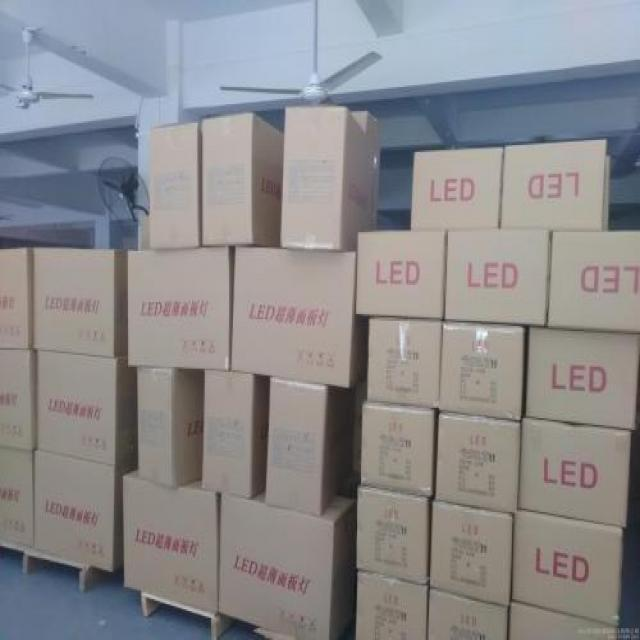box: (215, 482, 358, 640), (228, 236, 364, 388), (510, 501, 638, 627), (124, 459, 220, 621), (515, 408, 640, 528), (124, 238, 236, 368), (282, 99, 370, 253), (523, 315, 640, 425), (32, 441, 128, 575), (35, 344, 137, 469), (443, 214, 554, 328), (199, 105, 285, 245), (31, 243, 129, 356), (434, 306, 530, 421), (267, 370, 344, 513), (428, 402, 524, 516), (543, 226, 640, 334), (427, 497, 516, 608), (201, 356, 270, 498), (498, 143, 610, 230), (352, 393, 441, 493), (353, 223, 443, 321), (363, 305, 443, 415), (349, 482, 436, 583), (137, 351, 197, 492), (408, 139, 504, 227), (144, 120, 203, 249), (354, 561, 430, 640)
